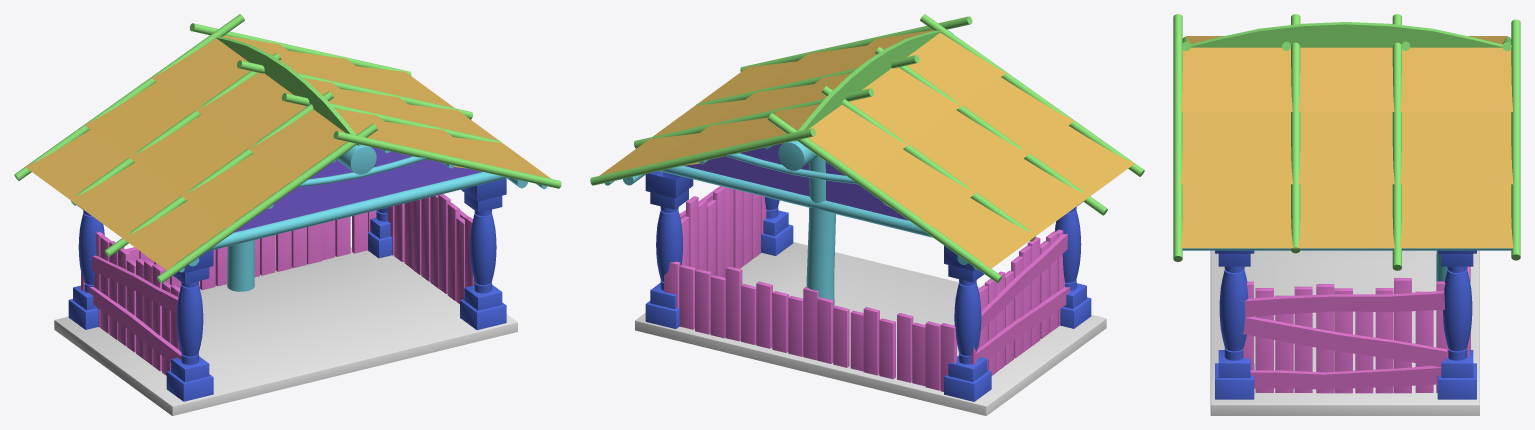
File: atelier.fbx
3 renders of one model, left to right at view 1: azimuth 30°, elevation 25°; view 2: azimuth 150°, elevation 25°; view 3: azimuth 270°, elevation 25°, orthographic. The views are drawn at different scales.
Parts seen in each view (by area): view 1: ws_roof, ws_floor, ws_planks, ws_beams1, ws_pillars, ws_beams2, ws_triangle2; view 2: ws_roof, ws_planks, ws_floor, ws_beams1, ws_pillars, ws_beams2, ws_triangle2; view 3: ws_roof, ws_planks, ws_floor, ws_beams1, ws_pillars, ws_beams2.
Part boxes in pixels (x1,y1,x2,y2): ws_roof: [25, 35, 551, 270]; ws_floor: [54, 247, 517, 415]; ws_planks: [81, 194, 474, 375]; ws_beams1: [14, 14, 561, 283]; ws_pillars: [68, 178, 506, 401]; ws_beams2: [179, 145, 547, 291]; ws_triangle2: [234, 147, 482, 232]; ws_roof: [599, 30, 1134, 268]; ws_planks: [664, 186, 1070, 391]; ws_floor: [635, 242, 1106, 415]; ws_beams1: [590, 14, 1144, 282]; ws_pillars: [645, 171, 1091, 401]; ws_beams2: [604, 30, 977, 306]; ws_triangle2: [684, 143, 909, 220]; ws_roof: [1180, 36, 1513, 248]; ws_planks: [1241, 266, 1470, 393]; ws_floor: [1210, 250, 1479, 415]; ws_beams1: [1173, 14, 1520, 270]; ws_pillars: [1215, 250, 1476, 399]; ws_beams2: [1182, 248, 1511, 281].
Size of the model in its own units: 382 by 231 by 244.
